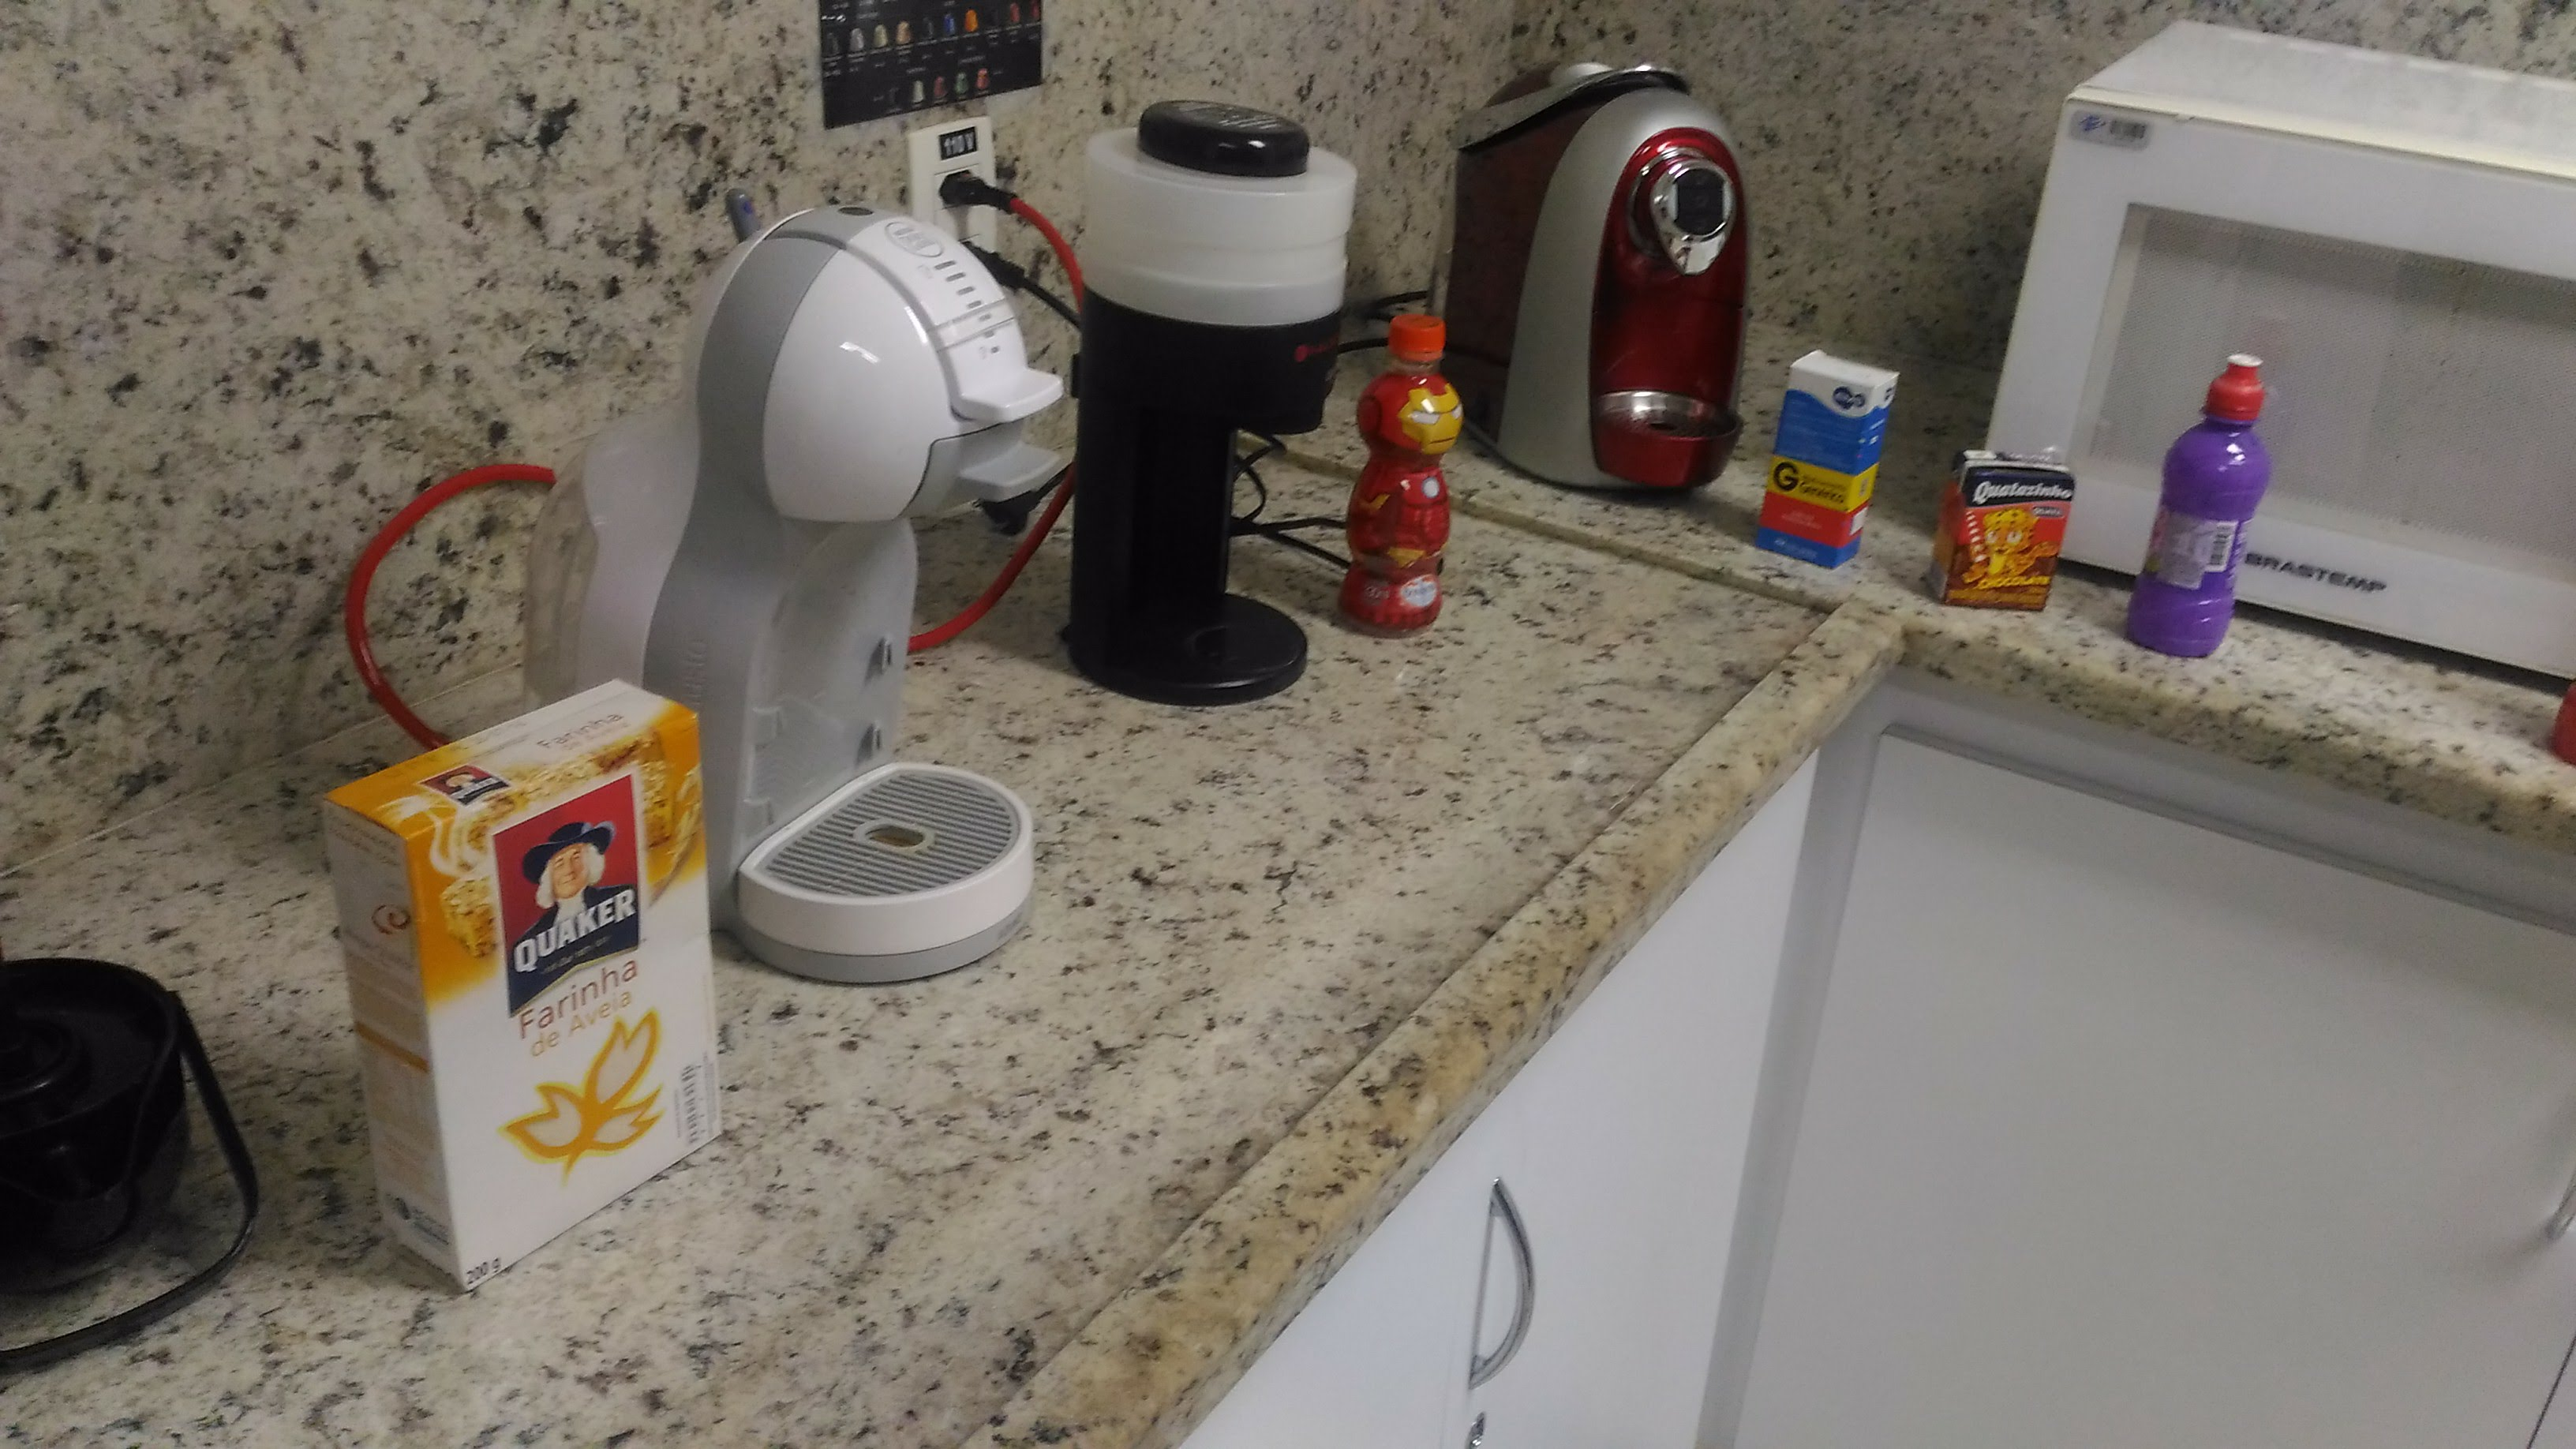cereal: (320, 679, 737, 1299)
chocolate_milk: (1936, 446, 2079, 630)
iron_man: (1339, 310, 1470, 645)
medicine: (1763, 337, 1895, 574)
purple_juice: (2124, 341, 2271, 672)
